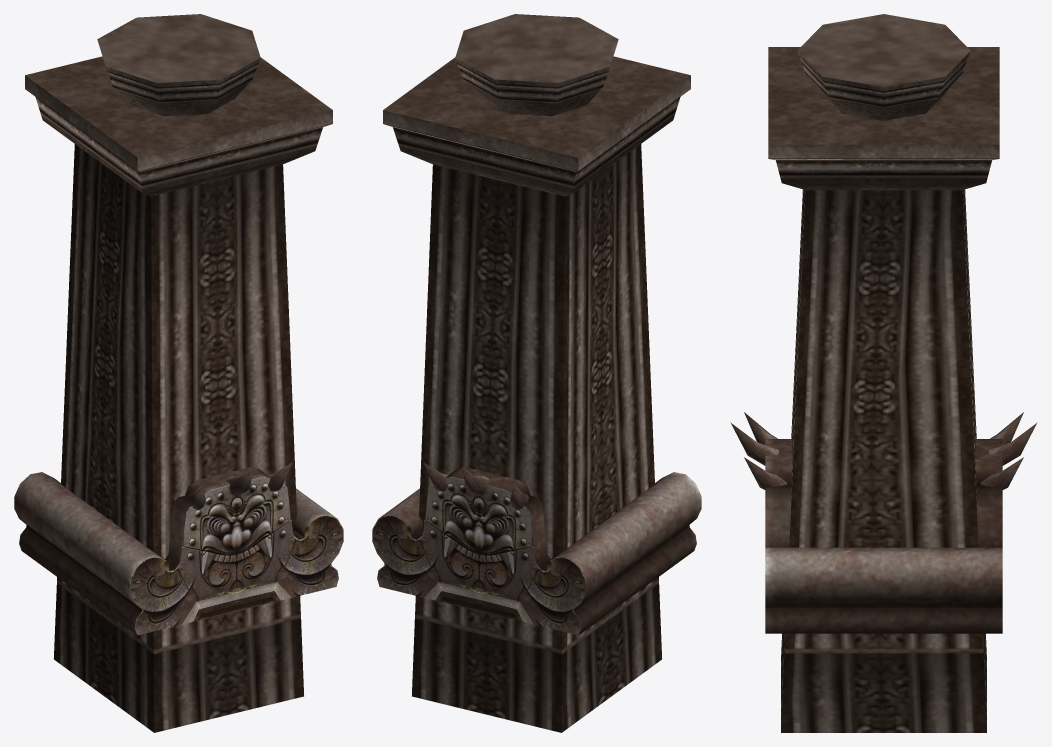
The model's file is LionTemple03.FBX.
3 renders of one model, left to right at view 1: azimuth 30°, elevation 25°; view 2: azimuth 150°, elevation 25°; view 3: azimuth 270°, elevation 25°, orthographic. The views are drawn at different scales.
Parts seen in each view (by area): view 1: Object001; view 2: Object001; view 3: Object001.
Boxes of the visible parts, x1,y1,x2,y2 form: Object001: (14, 14, 343, 732); Object001: (372, 14, 701, 732); Object001: (730, 14, 1037, 732).
Bounding box in the file's own units: 77.71 × 219 × 94.3.
1 material, 1 textured.
